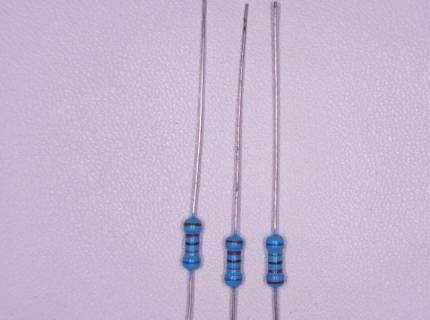Black band: (268, 260, 283, 265), (185, 242, 199, 246), (227, 259, 241, 263)
Blue band: (182, 260, 201, 264), (224, 278, 242, 281), (266, 243, 284, 246)
Brown band: (183, 222, 202, 226), (266, 280, 284, 284), (226, 240, 244, 243)
Grey band: (268, 253, 282, 257), (185, 250, 199, 253), (227, 267, 241, 270)
Red band: (227, 251, 241, 255), (268, 269, 282, 273), (185, 234, 199, 237)
